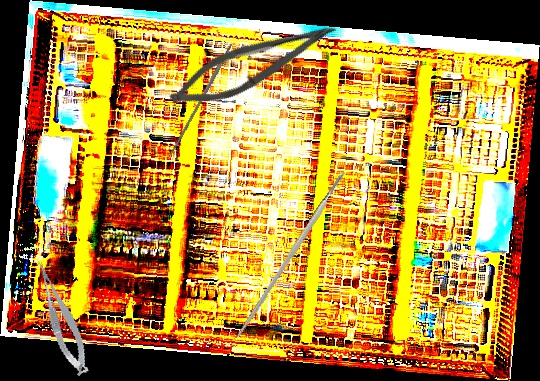Micro Scissor: (162, 1, 343, 124), (32, 254, 93, 381)
Scalpel Handle: (233, 169, 349, 341), (169, 42, 235, 155)
